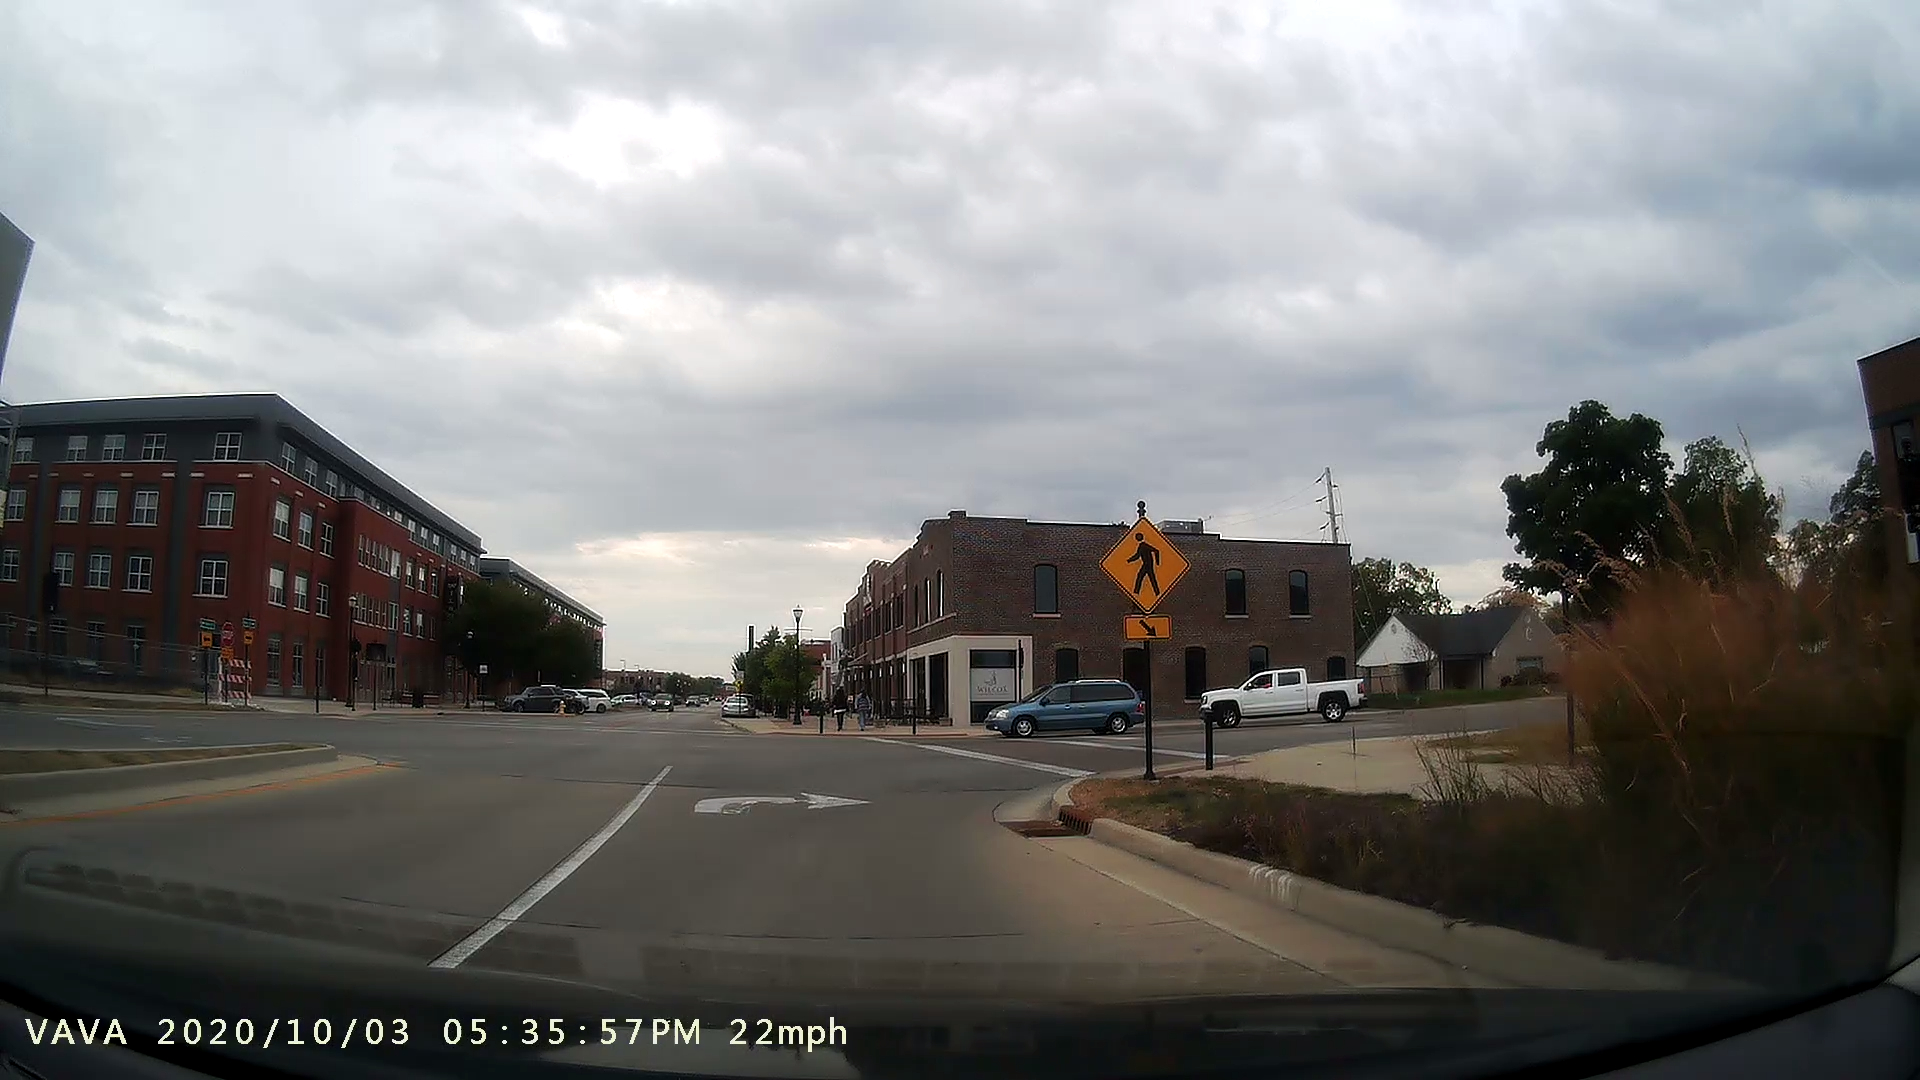right_turn: (686, 764, 885, 839)
